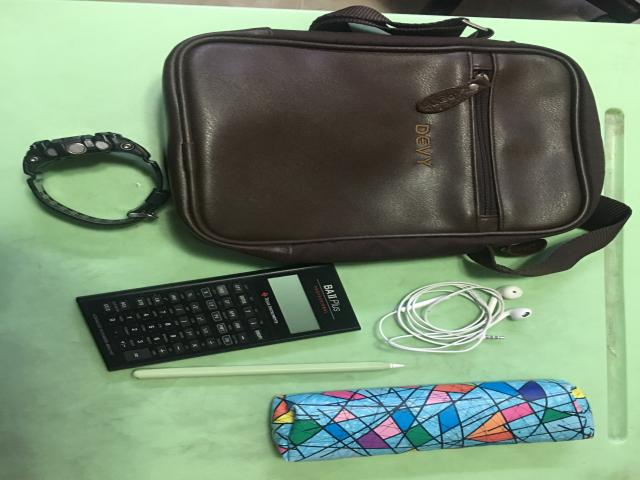Watch: (23, 132, 170, 225)
wire: (378, 282, 532, 352)
